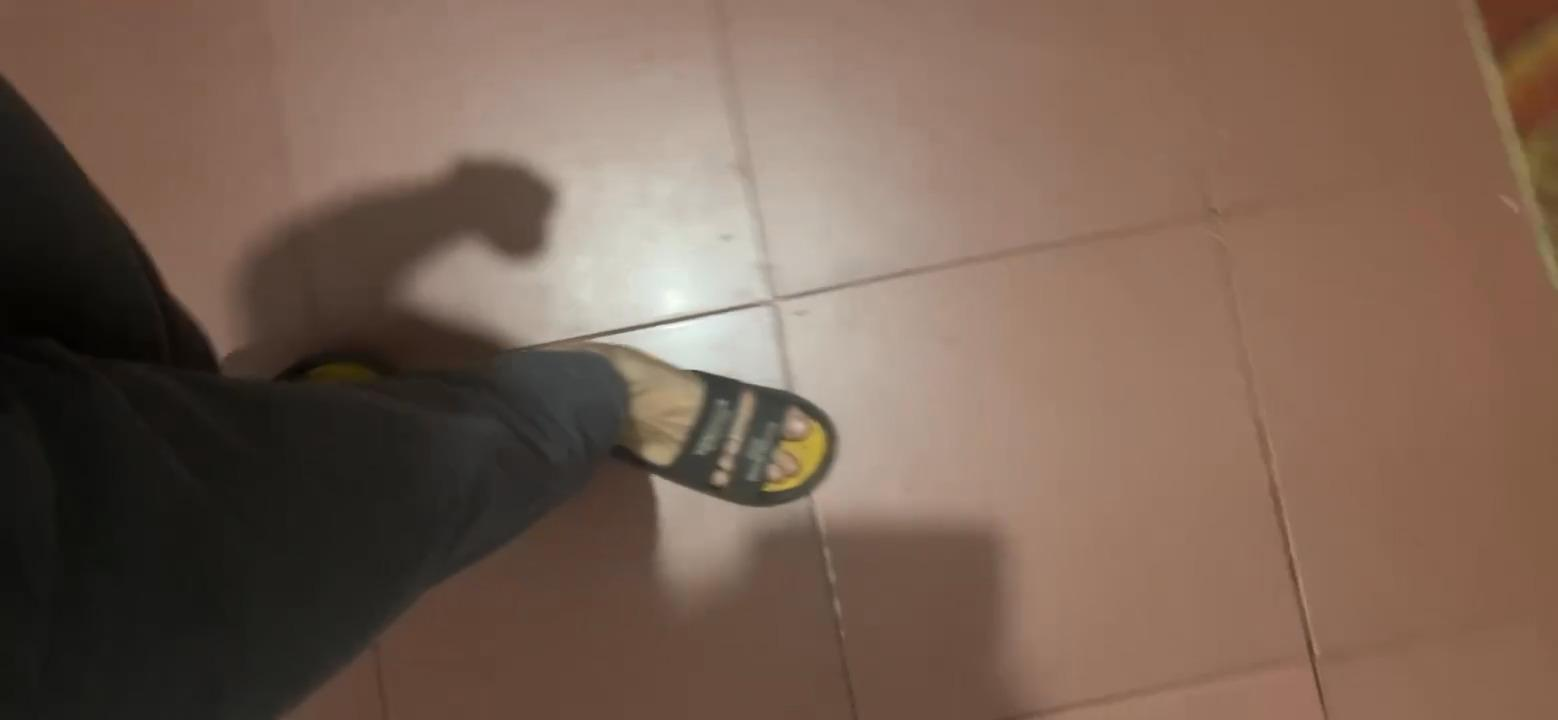no-boot: (567, 337, 848, 511)
